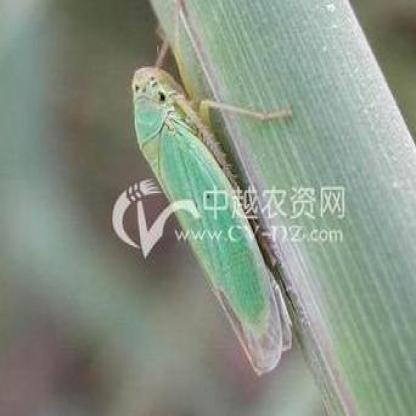Green-Leafhopper: (125, 8, 308, 383)
